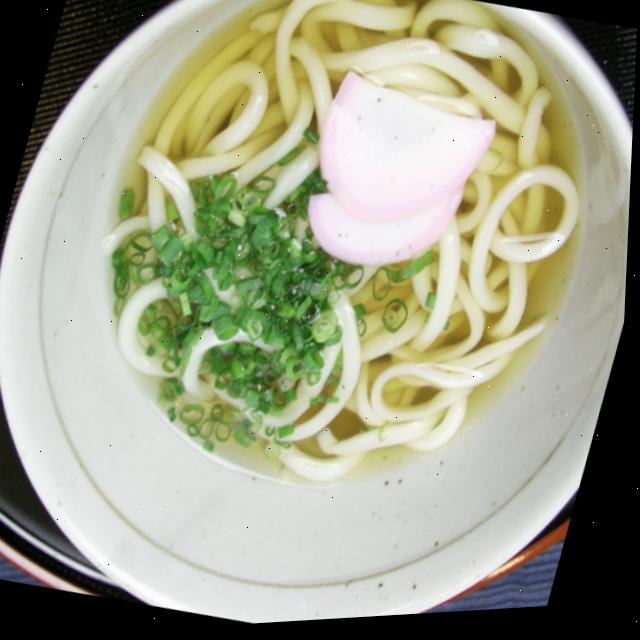面条主食: (10, 0, 640, 598)
